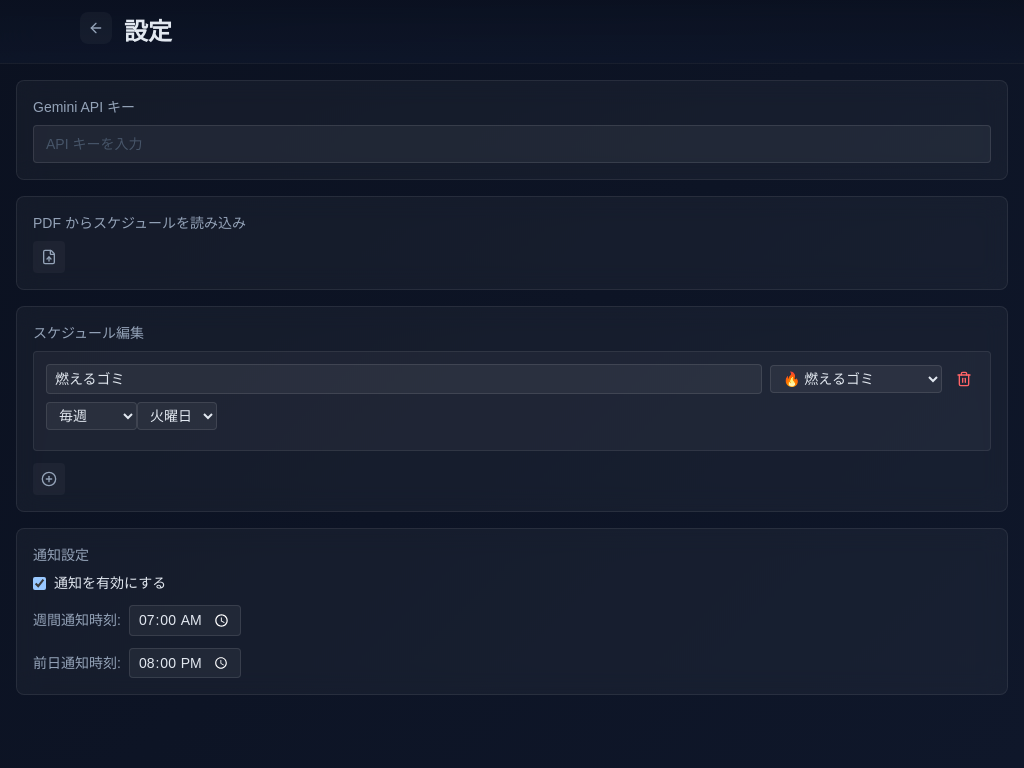
Settings - トースト通知 › 通知設定変更時にトースト通知が表示される
The width and height of the screenshot is (1024, 768).
Click the checkbox at [40, 583], box [33,576,46,590]
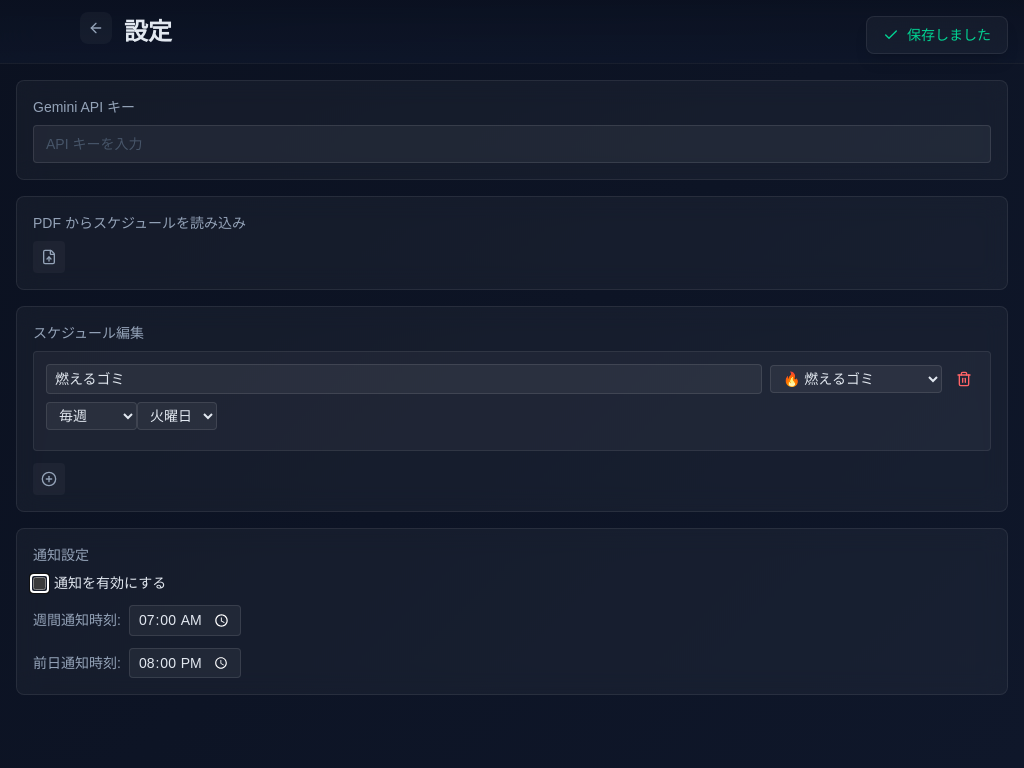
Expected: the text "保存しました" is shown, [907,25,991,45]
